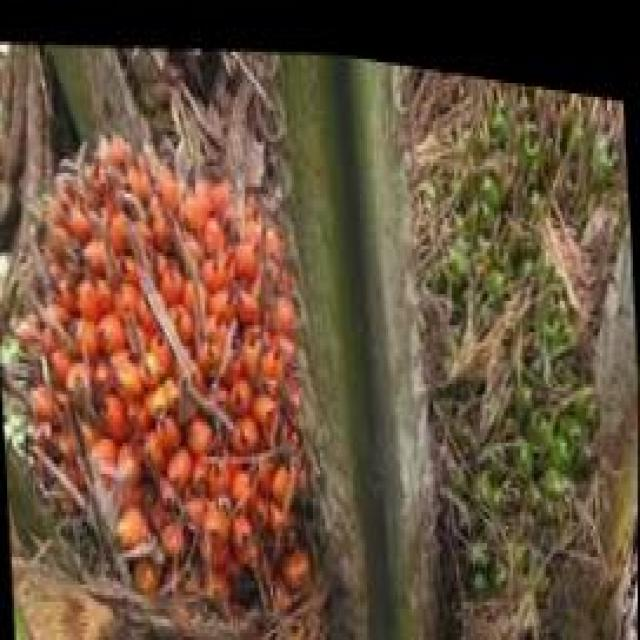Ripefruit: (20, 97, 324, 623)
